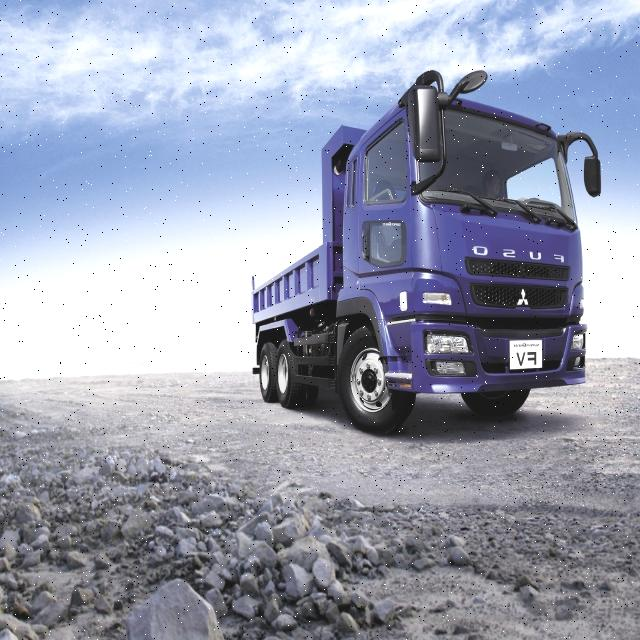truck: (250, 66, 600, 427)
